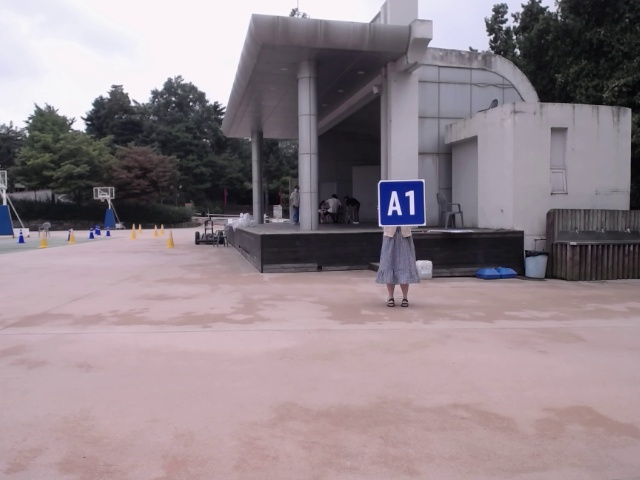delivery_a1: (378, 179, 426, 226)
